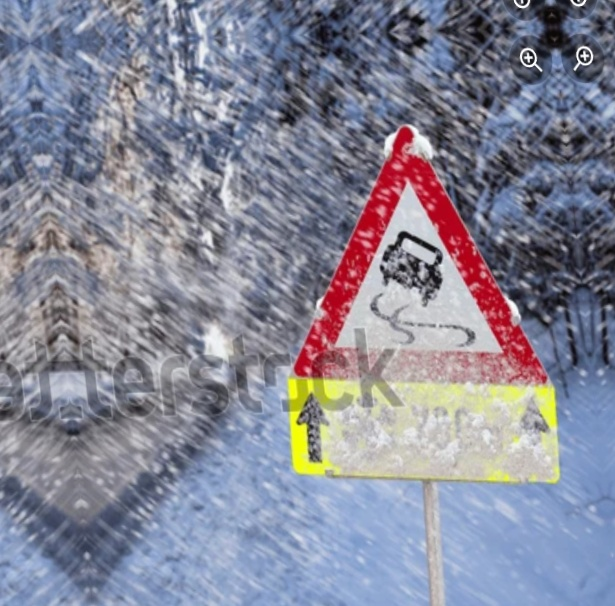Slippery road: (291, 122, 553, 394)
